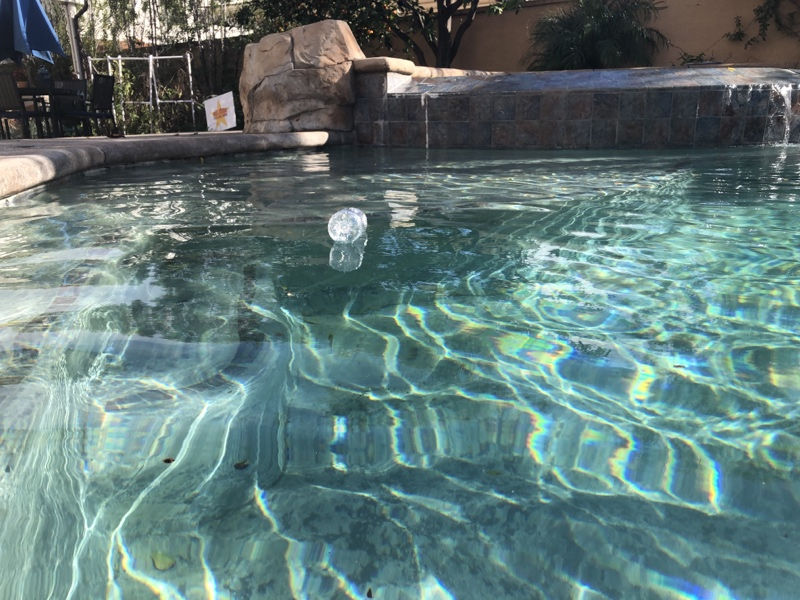Plastic Bottle: (322, 203, 371, 246)
